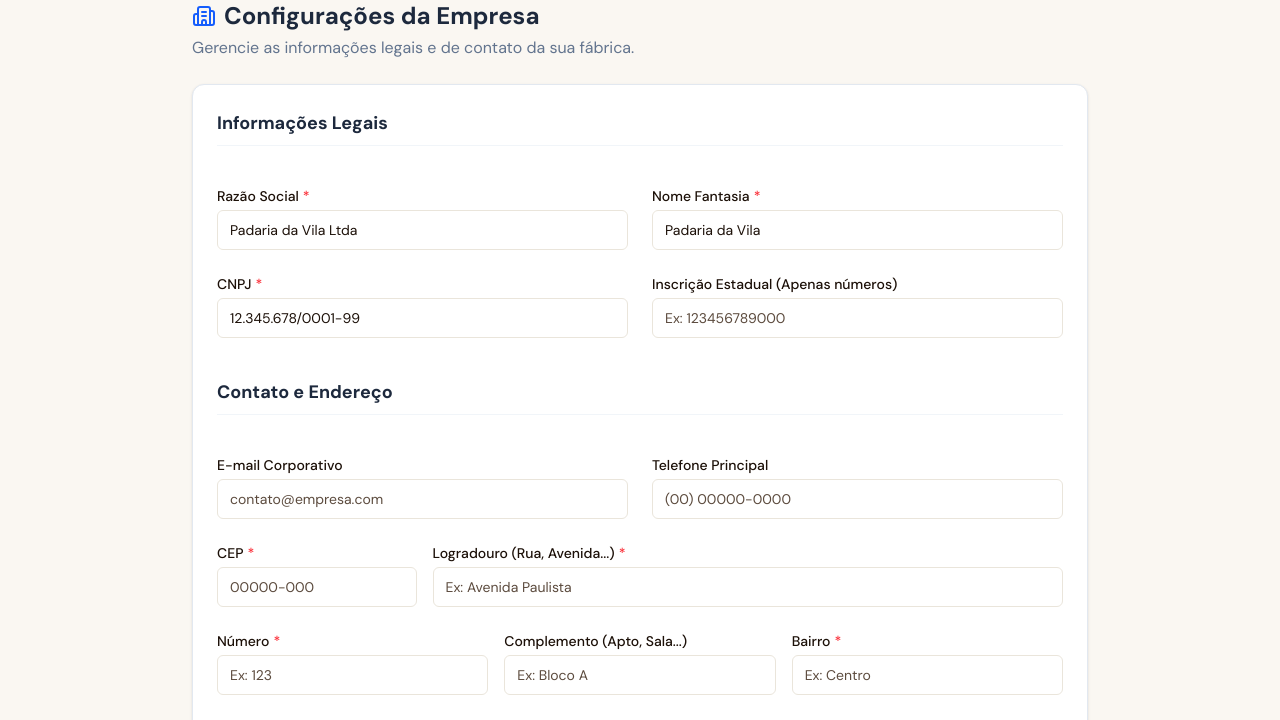
Test case: ConfiguracoesEmpresa Component › performs reverse geocoding address lookup via Nominatim
# Fill minimum fields using name attributes
Type "12345-678" into the field named "cep". click: (317, 587)
box: [217,567,416,607]
(page scrolled)
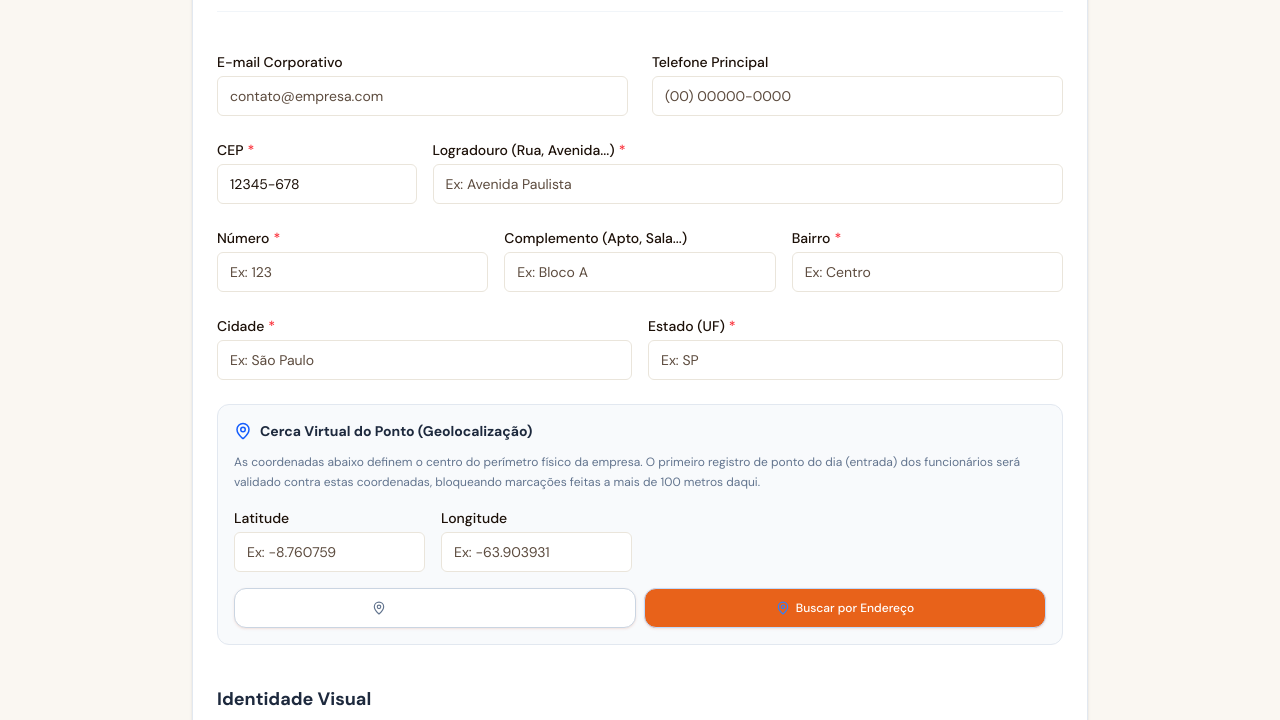
Type "Porto Velho" into the field named "cidade". click: (424, 360)
box: [217,340,632,380]
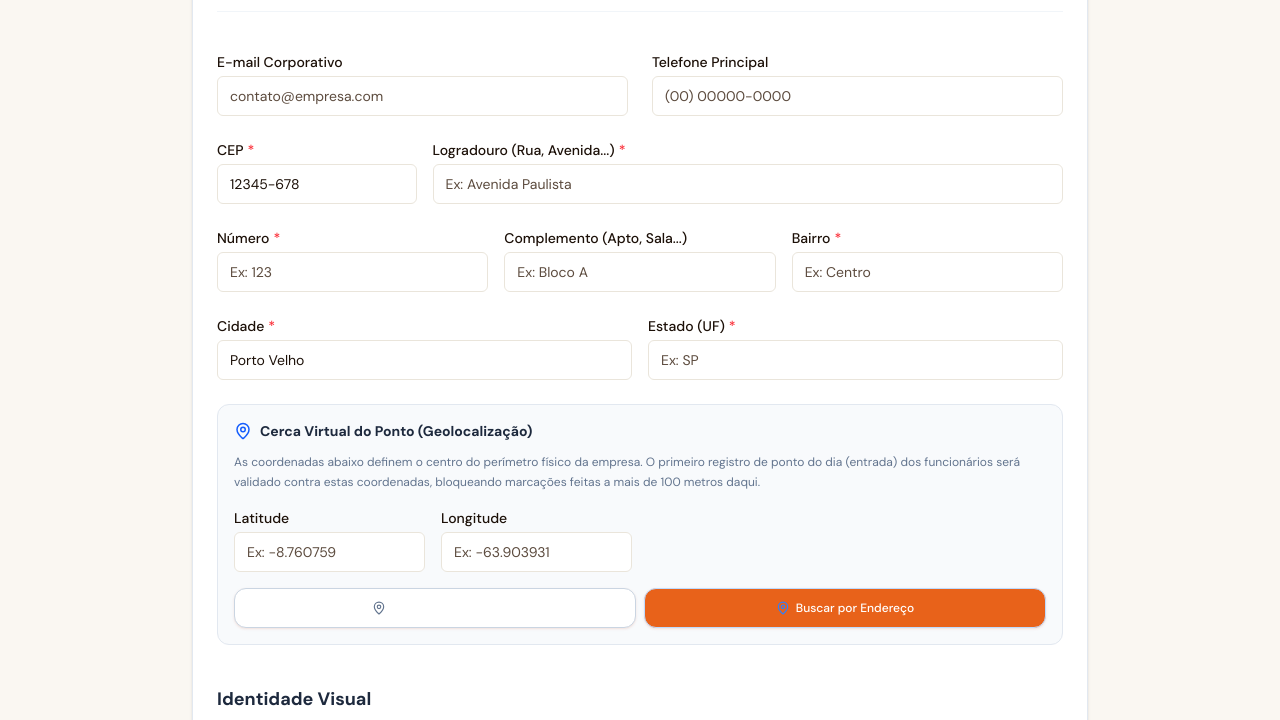
Type "RO" into the field named "estado". click: (856, 360)
box: [648,340,1063,380]
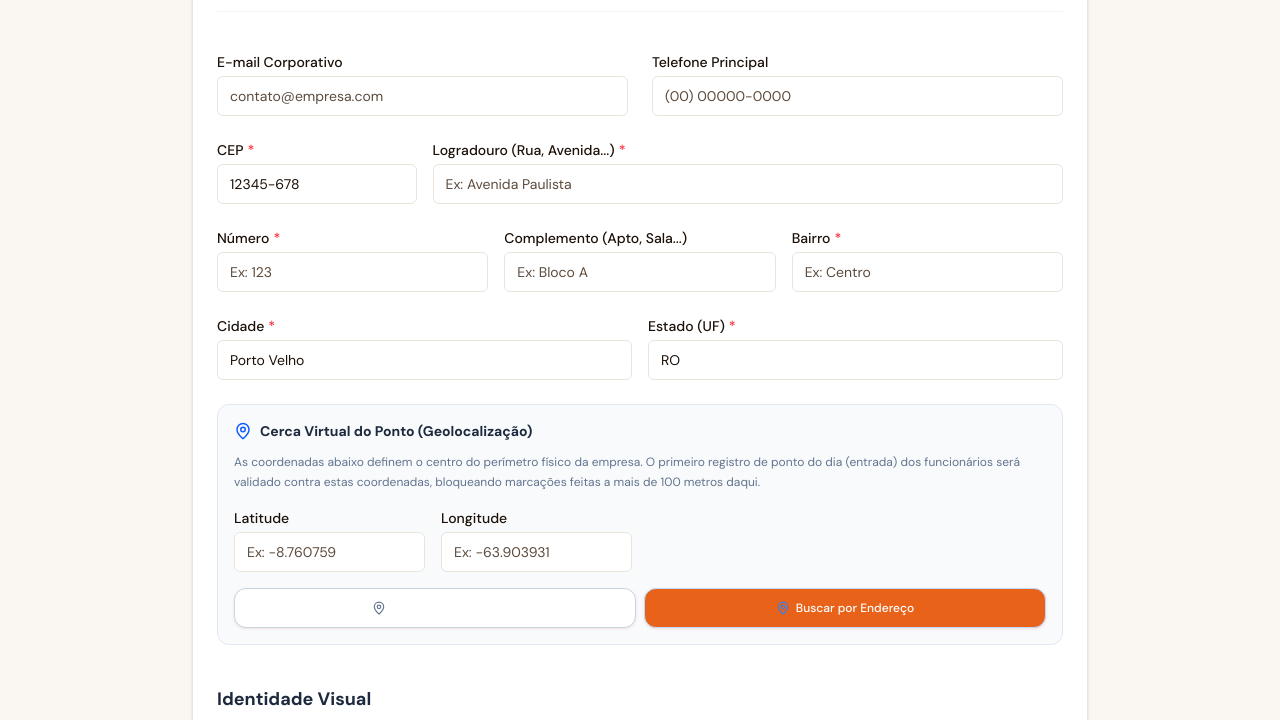
Click the button "Buscar por Endereço". click: (845, 608)
box: [644,588,1046,628]
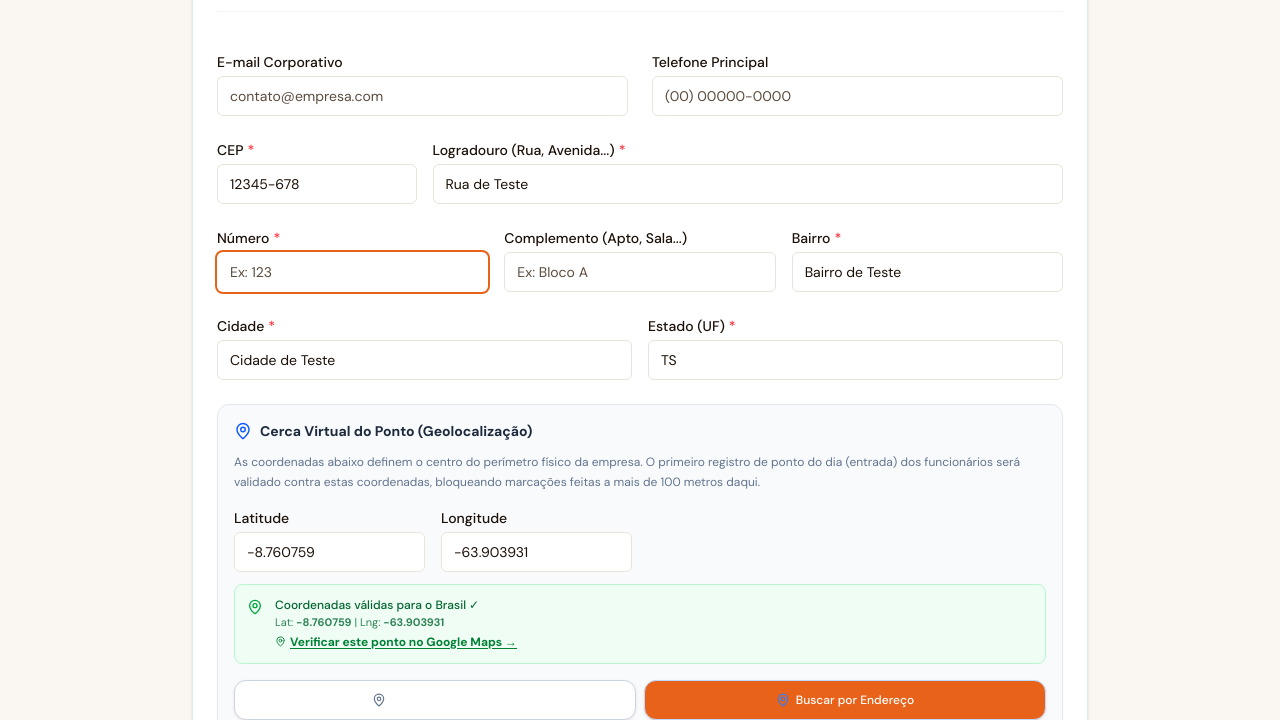
Check: the field named "latitude" below "Latitude" holds "-8.760759", box [234,532,425,572]
Check: the field named "longitude" below "Longitude" holds "-63.903931", box [441,532,632,572]
